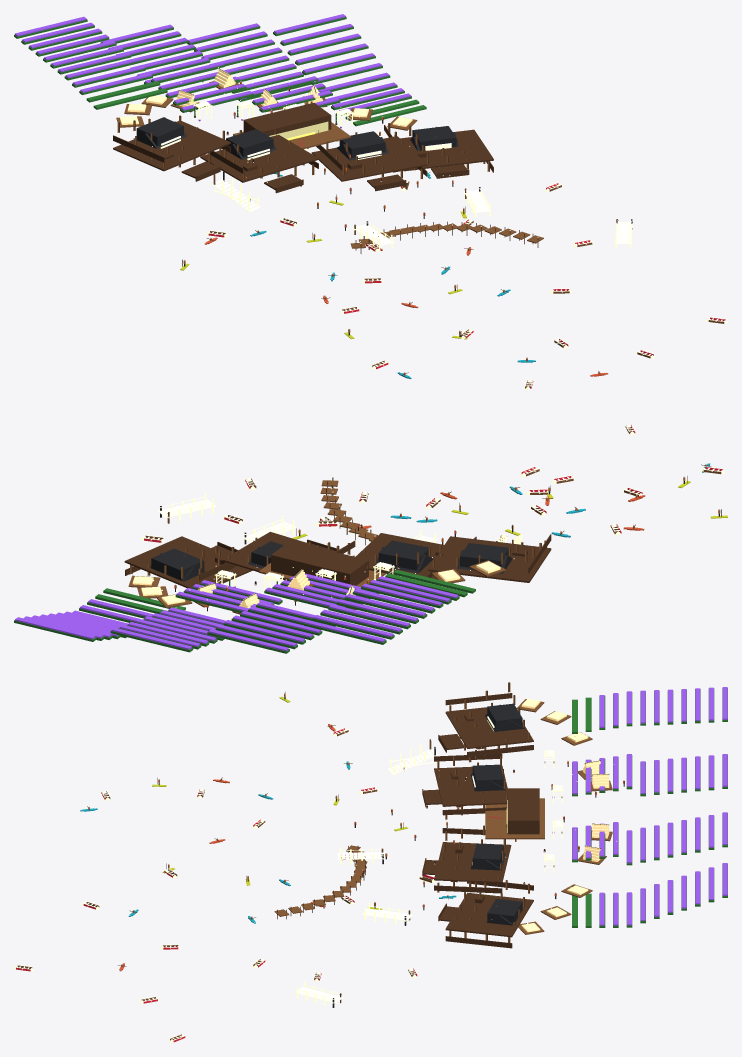
File: ul_w8_01_tuyen_lam_lavender_kayak_marina_and_pinhatt_sunset_pier.glb
The picture shows the model from 3 angles, top to bottom: view 1: azimuth 30°, elevation 25°; view 2: azimuth 150°, elevation 25°; view 3: azimuth 270°, elevation 25°; orthographic projection. The views are drawn at different scales.
Visible parts, largest first — view 1: ul_w8_01_cedar_dark_wood, ul_w8_01_lavender_purple, ul_w8_01_foliage_green, ul_w8_01_pine_deck_wood, ul_w8_01_warm_string_bulb, ul_w8_01_dark_iron_frame, ul_w8_01_glamping_tent_cream; view 2: ul_w8_01_lavender_purple, ul_w8_01_cedar_dark_wood, ul_w8_01_foliage_green, ul_w8_01_dark_iron_frame, ul_w8_01_pine_deck_wood, ul_w8_01_warm_string_bulb, ul_w8_01_glamping_tent_cream, ul_w8_01_rose_crimson, ul_w8_01_kayak_aqua_cyan, ul_w8_01_kayak_sunset_coral; view 3: ul_w8_01_cedar_dark_wood, ul_w8_01_lavender_purple, ul_w8_01_pine_deck_wood, ul_w8_01_foliage_green, ul_w8_01_warm_string_bulb, ul_w8_01_dark_iron_frame, ul_w8_01_glamping_tent_cream.
Boxes of the visible parts, x1,y1,x2,y2 form: ul_w8_01_cedar_dark_wood: (113, 68, 650, 432); ul_w8_01_lavender_purple: (15, 14, 410, 128); ul_w8_01_foliage_green: (14, 17, 426, 126); ul_w8_01_pine_deck_wood: (116, 81, 724, 433); ul_w8_01_warm_string_bulb: (147, 67, 727, 434); ul_w8_01_dark_iron_frame: (133, 81, 632, 375); ul_w8_01_glamping_tent_cream: (120, 68, 412, 126); ul_w8_01_lavender_purple: (15, 573, 458, 651); ul_w8_01_cedar_dark_wood: (124, 470, 638, 600); ul_w8_01_foliage_green: (14, 570, 475, 653); ul_w8_01_dark_iron_frame: (150, 464, 721, 611); ul_w8_01_pine_deck_wood: (128, 469, 721, 614); ul_w8_01_warm_string_bulb: (141, 463, 725, 618); ul_w8_01_glamping_tent_cream: (132, 561, 500, 608); ul_w8_01_rose_crimson: (144, 467, 722, 542); ul_w8_01_kayak_aqua_cyan: (390, 463, 710, 537); ul_w8_01_kayak_sunset_coral: (174, 492, 645, 607); ul_w8_01_cedar_dark_wood: (88, 693, 609, 1039); ul_w8_01_lavender_purple: (544, 687, 727, 925); ul_w8_01_pine_deck_wood: (17, 682, 612, 1040); ul_w8_01_foliage_green: (572, 688, 727, 927); ul_w8_01_warm_string_bulb: (14, 711, 625, 1042); ul_w8_01_dark_iron_frame: (87, 692, 624, 1007); ul_w8_01_glamping_tent_cream: (521, 699, 609, 932).
Bounding box in the file's own units: 125 × 44.42 × 167.
